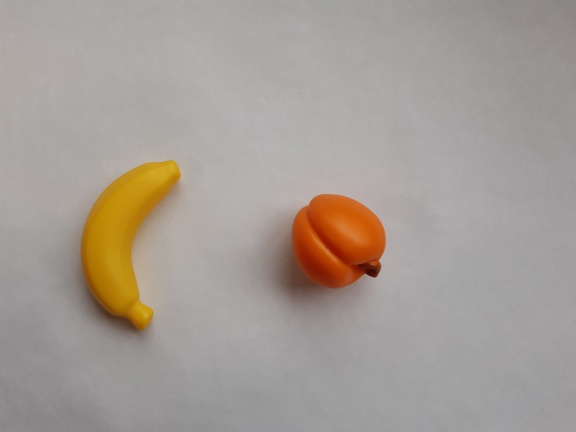apricot: (285, 189, 394, 295)
banana: (77, 157, 184, 335)
